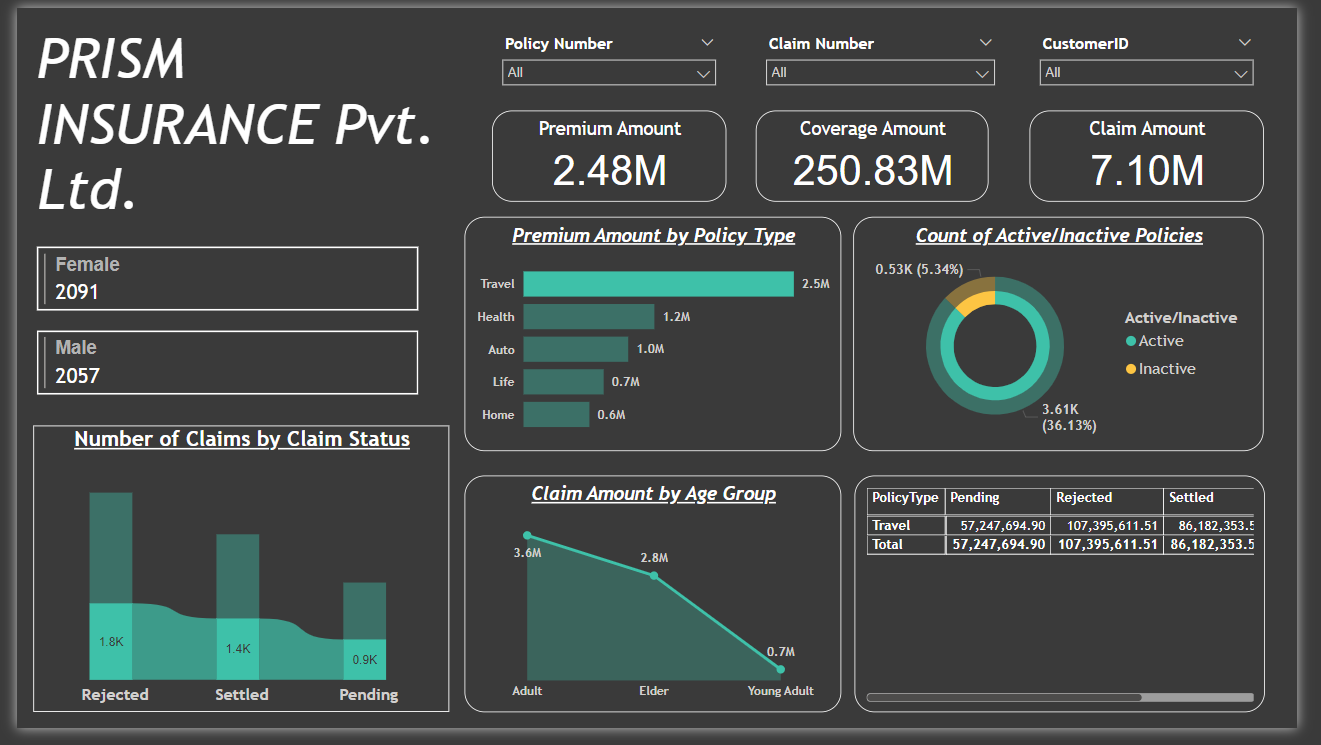

Layout of this report page (visuals, bound fields, positions):
{"tool":"powerbi","page":{"name":"Page 1","canvas":[1280,720],"ordinal":0},"visuals":[{"type":"slicer","fields":{"Values":["InsuranceData.PolicyNumber"]},"box":[475.2,21.5,234.2,67.3],"z":0},{"type":"slicer","fields":{"Values":["InsuranceData.ClaimNumber"]},"box":[739.1,21.5,249.1,67.3],"z":1000},{"type":"slicer","fields":{"Values":["InsuranceData.CustomerID"]},"box":[1012.4,21.5,234.2,67.3],"z":2000},{"type":"textbox","box":[14.8,12.1,420,211.4],"z":3000},{"type":"card","title":"Premium Amount","fields":{"Values":["Sum(InsuranceData.PremiumAmount)"]},"box":[475.2,102.3,234.2,91.5],"z":4000},{"type":"card","title":"Coverage Amount","fields":{"Values":["Sum(InsuranceData.CoverageAmount)"]},"box":[739.1,102.3,232.9,91.5],"z":5000},{"type":"card","title":"Claim Amount","fields":{"Values":["Sum(InsuranceData.ClaimAmount)"]},"box":[1012.4,102.3,234.2,91.5],"z":6000},{"type":"multiRowCard","fields":{"Values":["InsuranceData.Gender","CountNonNull(InsuranceData.Gender)"]},"box":[14.8,234.2,391.8,183.1],"z":7000},{"type":"ribbonChart","title":"Number of Claims by Claim Status","fields":{"Category":["InsuranceData.ClaimStatus"],"Y":["CountNonNull(InsuranceData.ClaimStatus)"]},"box":[16.2,417.3,416,286.7],"z":8000},{"type":"barChart","title":"Premium Amount by Policy Type","fields":{"Category":["InsuranceData.PolicyType"],"Y":["Sum(InsuranceData.PremiumAmount)"]},"box":[447,208.7,376.9,234.2],"z":9000},{"type":"lineChart","title":"Claim Amount by Age Group","fields":{"Category":["InsuranceData.Age_Group"],"Y":["Sum(InsuranceData.ClaimAmount)"]},"box":[447,467.1,376.9,236.9],"z":10000},{"type":"donutChart","title":"Count of Active/Inactive Policies","fields":{"Category":["InsuranceData.Active/Inactive"],"Y":["CountNonNull(InsuranceData.Active/Inactive)"]},"box":[836,208.7,410.6,234.2],"z":11000},{"type":"pivotTable","fields":{"Values":["Sum(InsuranceData.CoverageAmount)"],"Rows":["InsuranceData.PolicyType"],"Columns":["InsuranceData.ClaimStatus"]},"box":[837.4,467.1,410.6,236.9],"z":11001}]}

Visuals, with their boxes in screenshot pixels (x1, y1, x2, y2), scaled from the page's 1280x720 canvas onto the 1321x745 screenshot:
slicer - InsuranceData.PolicyNumber: box=[490, 22, 732, 92]
slicer - InsuranceData.ClaimNumber: box=[763, 22, 1020, 92]
slicer - InsuranceData.CustomerID: box=[1045, 22, 1287, 92]
textbox: box=[15, 13, 449, 231]
"Premium Amount" card: box=[490, 106, 732, 201]
"Coverage Amount" card: box=[763, 106, 1003, 201]
"Claim Amount" card: box=[1045, 106, 1287, 201]
multiRowCard - InsuranceData.Gender x CountNonNull(InsuranceData.Gender): box=[15, 242, 420, 432]
"Number of Claims by Claim Status" ribbonChart: box=[17, 432, 446, 728]
"Premium Amount by Policy Type" barChart: box=[461, 216, 850, 458]
"Claim Amount by Age Group" lineChart: box=[461, 483, 850, 728]
"Count of Active/Inactive Policies" donutChart: box=[863, 216, 1287, 458]
pivotTable - Sum(InsuranceData.CoverageAmount) x InsuranceData.PolicyType: box=[864, 483, 1288, 728]
